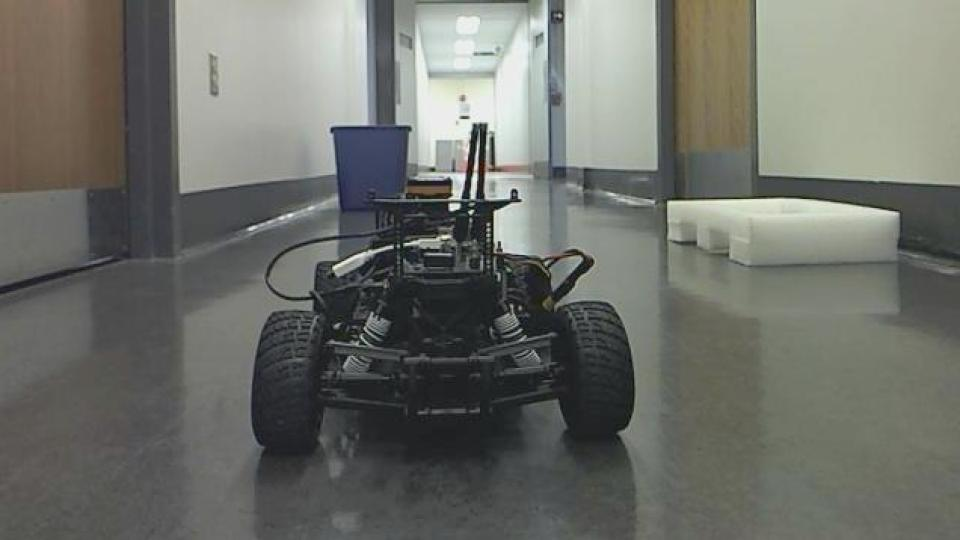car: (246, 121, 639, 457)
